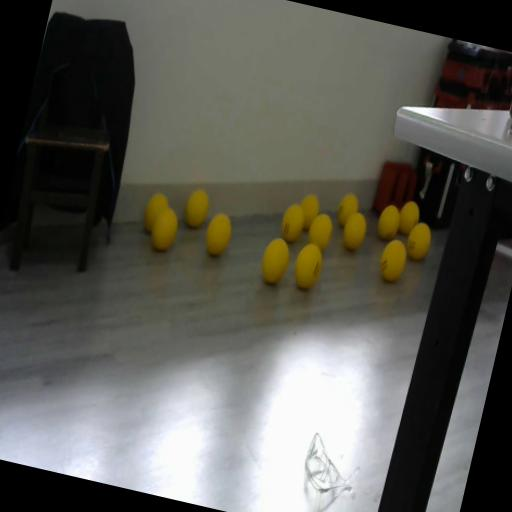FUEL: (256, 234, 294, 288), (290, 240, 326, 292), (200, 209, 236, 260), (375, 236, 411, 284), (140, 188, 172, 236), (304, 210, 336, 254), (181, 187, 212, 230), (404, 220, 434, 263), (340, 210, 370, 252), (394, 197, 423, 238), (375, 203, 403, 242), (295, 192, 322, 232)
